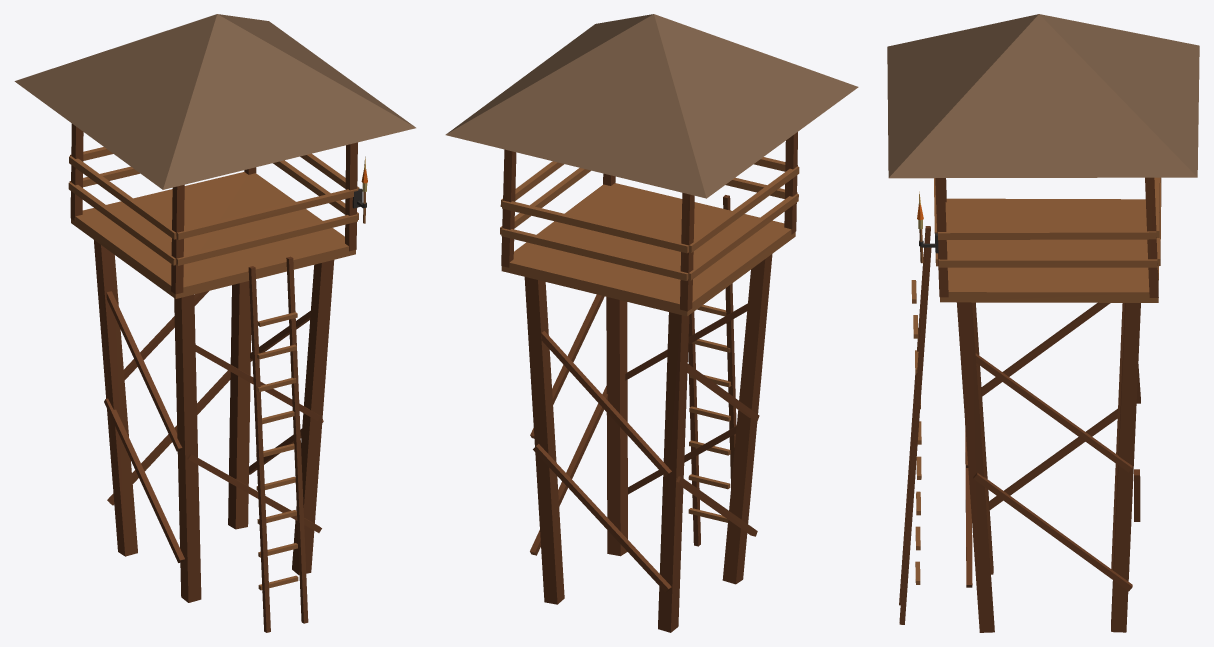
The model's file is watchtower.glb.
3 renders of one model, left to right at view 1: azimuth 30°, elevation 25°; view 2: azimuth 150°, elevation 25°; view 3: azimuth 270°, elevation 25°, orthographic. The views are drawn at different scales.
Parts seen in each view (by area): view 1: buildings/watchtower; view 2: buildings/watchtower; view 3: buildings/watchtower.
Boxes of the visible parts, x1,y1,x2,y2 form: buildings/watchtower: (14, 14, 415, 632); buildings/watchtower: (445, 14, 858, 632); buildings/watchtower: (887, 14, 1199, 632).
Size of the model in its own units: 4.05 by 8.59 by 4.07.
